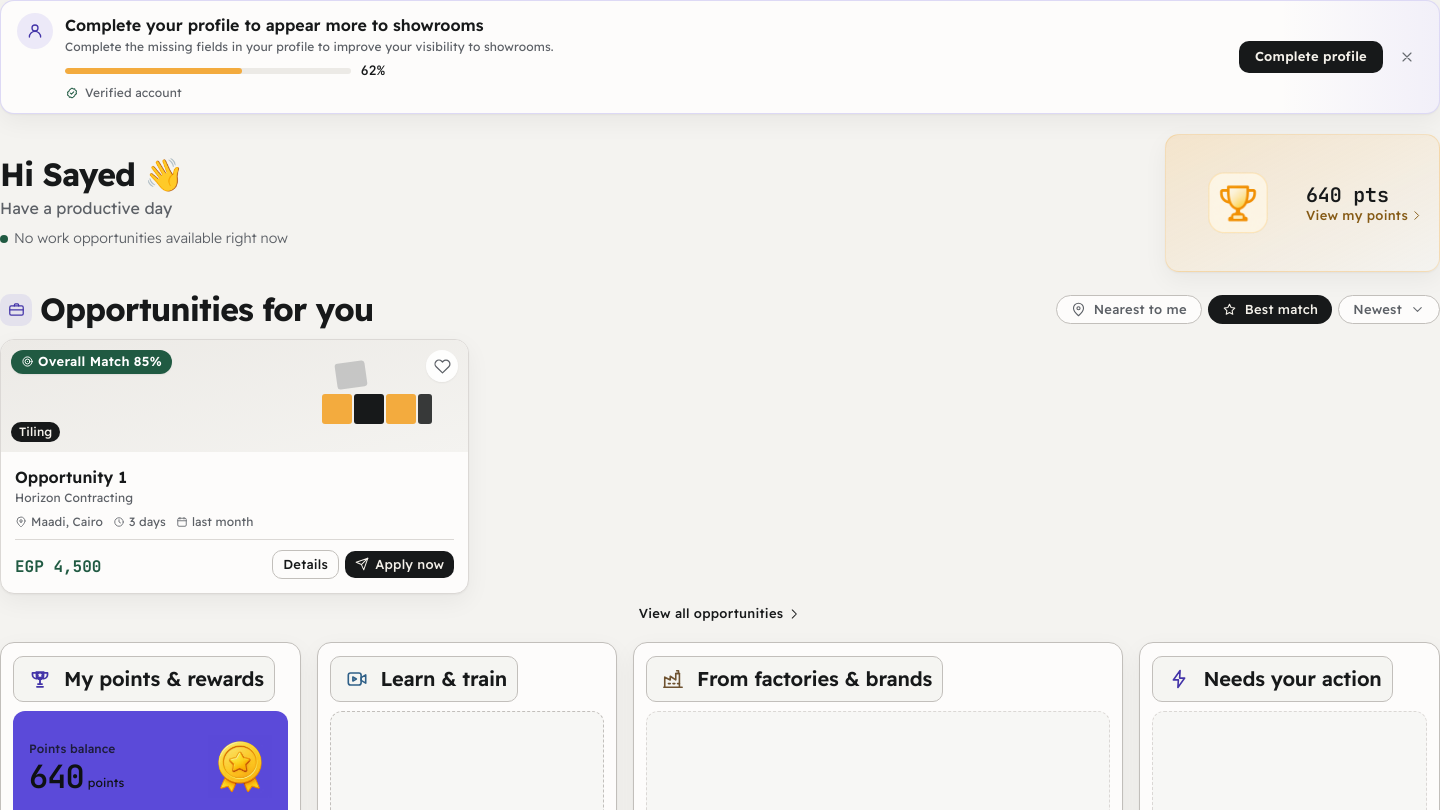
Test case: installer dashboard — the card has TWO separate actions › the badge opens an accessible breakdown built from the database's own points and reason codes — nothing is recomputed
The width and height of the screenshot is (1440, 810).
Step 1. Click the button with test id "match-badge" → (91, 362), box [11, 350, 172, 374]
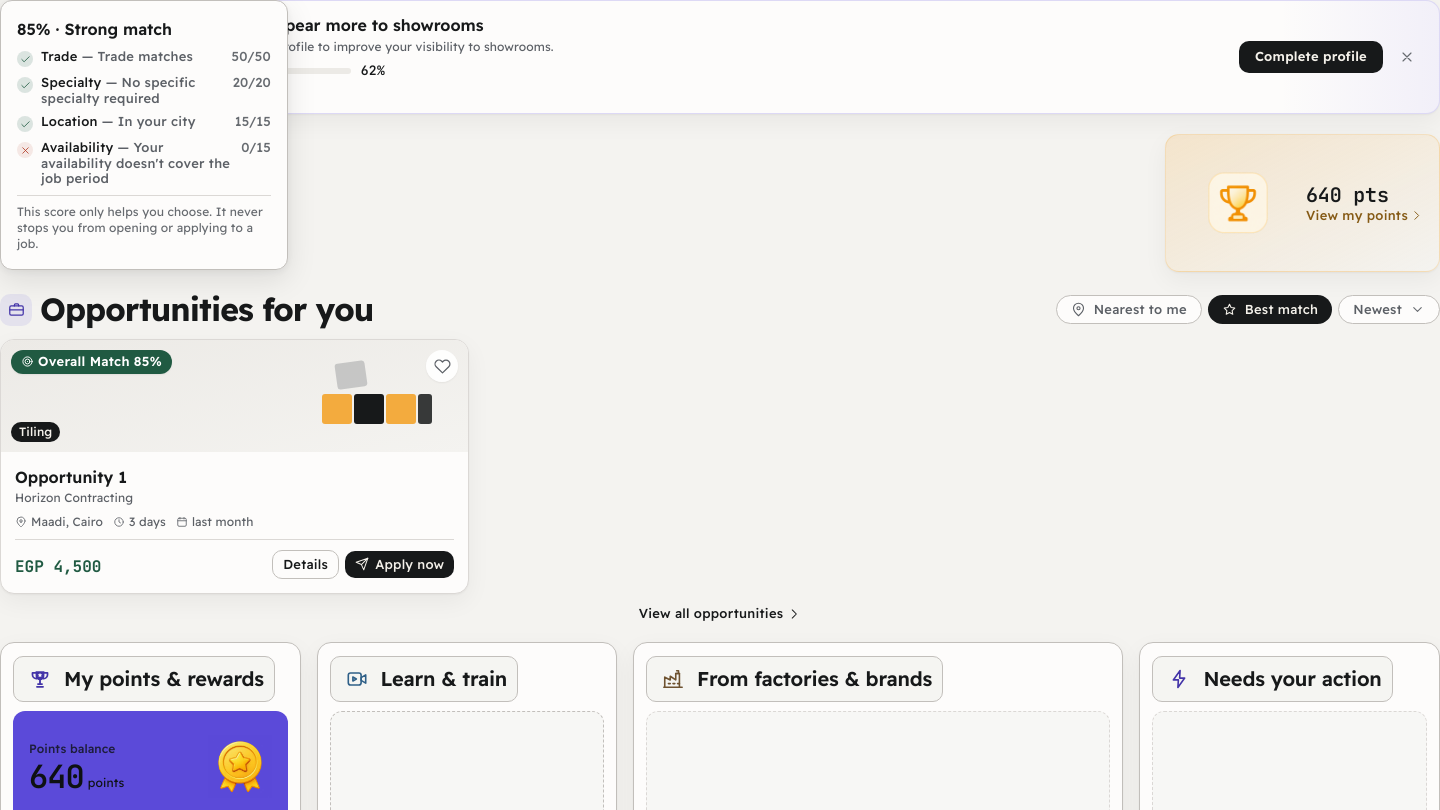
Check: the text "85% · Strong match" is shown, box [17, 19, 172, 39]
Check: the list item with test id "match-line-trade" shows "Trade matches", box [98, 48, 193, 64]
Check: the list item with test id "match-line-trade" shows "50/50", box [17, 49, 271, 67]
Step 2. Press Escape
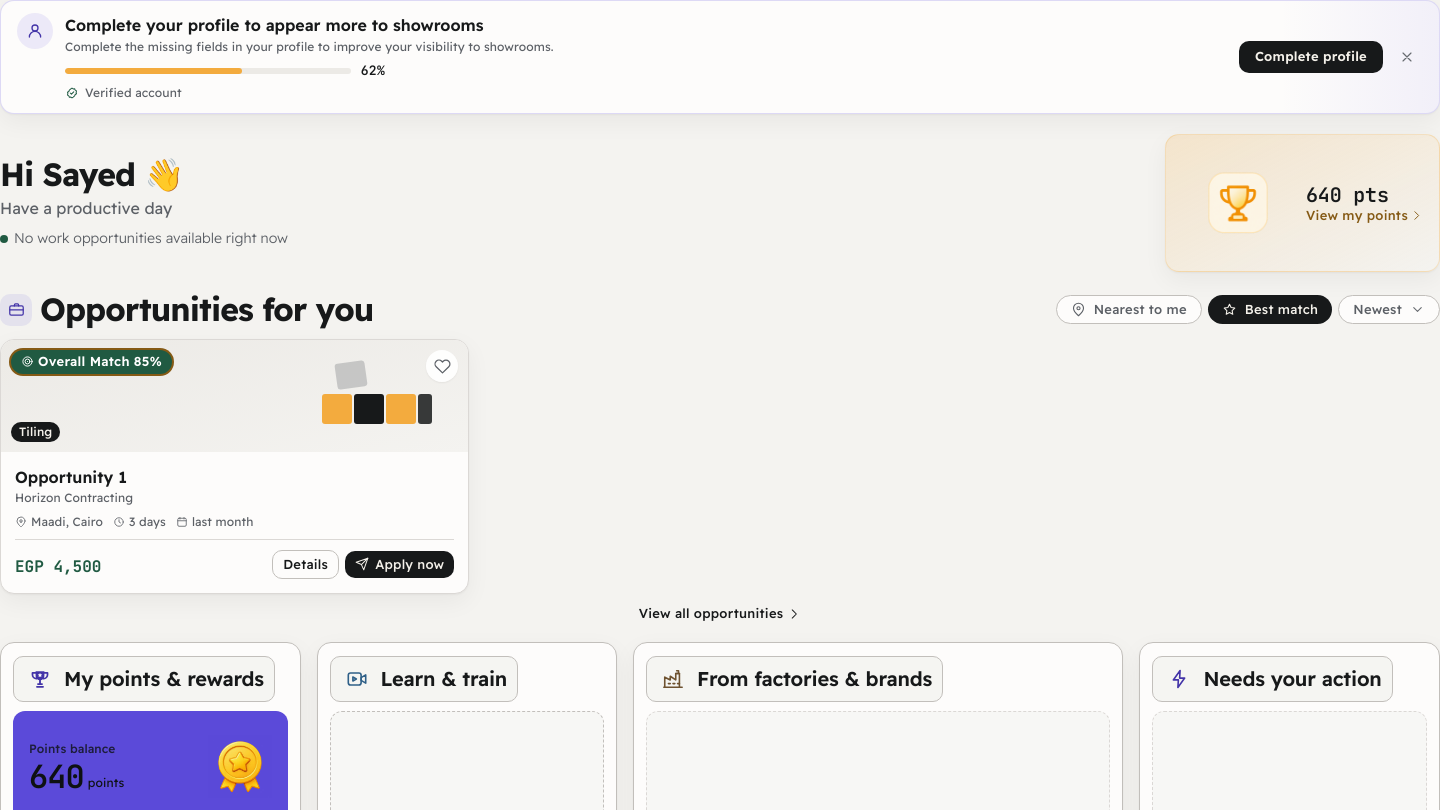
Check: the dialog with test id "match-breakdown" is gone
Check: the button with test id "match-badge" is collapsed, box [11, 350, 172, 374]
